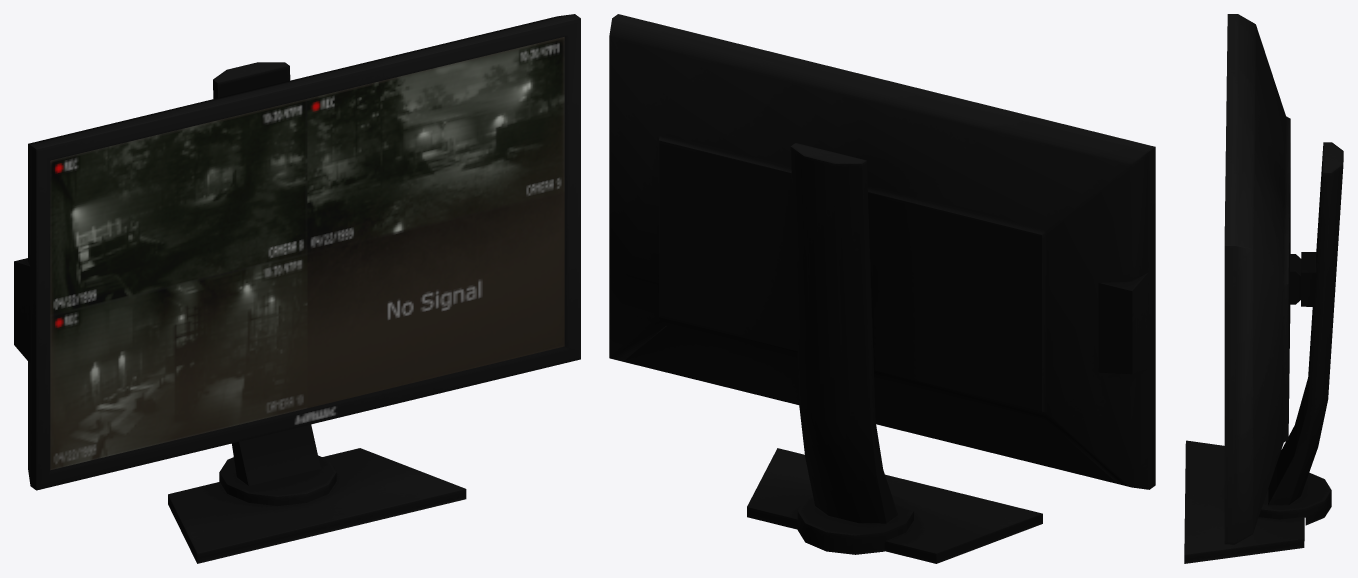
Rendered from Monitor 3.fbx.
3 renders of one model, left to right at view 1: azimuth 30°, elevation 25°; view 2: azimuth 150°, elevation 25°; view 3: azimuth 270°, elevation 25°, orthographic. The views are drawn at different scales.
Parts seen in each view (by area): view 1: Monitor_3; view 2: Monitor_3; view 3: Monitor_3.
Part boxes in pixels (x1,y1,x2,y2): Monitor_3: (14, 14, 580, 563); Monitor_3: (609, 14, 1155, 563); Monitor_3: (1184, 14, 1343, 563).
Bounding box in the file's own units: 41.69 × 31.59 × 12.1.
